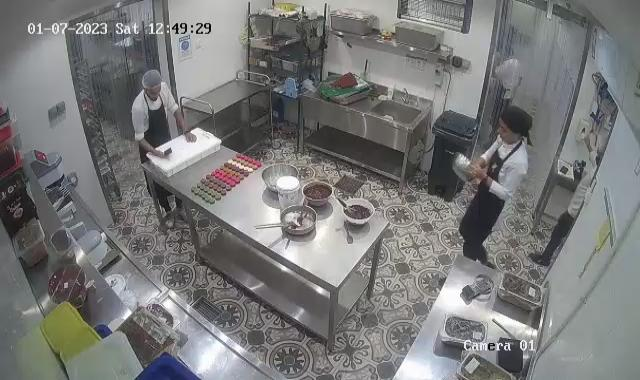hairnet: (140, 69, 162, 95)
no_hairnet: (500, 106, 530, 139)
